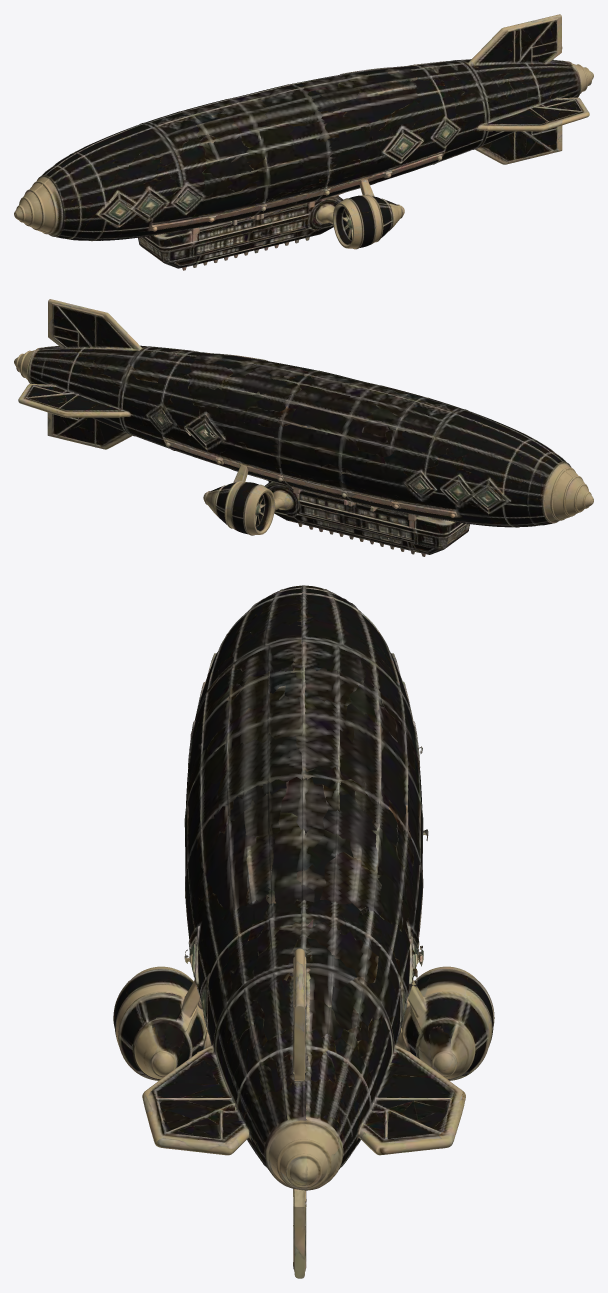
Rendered from cloud.glb.
3 views of the same model, one above another, from view 1: azimuth 30°, elevation 25°; view 2: azimuth 150°, elevation 25°; view 3: azimuth 270°, elevation 25° (orthographic). The views are drawn at different scales.
Size of the model in its own units: 1.9 by 0.5075 by 0.5416.
Materials: 1 (1 with a texture image).
